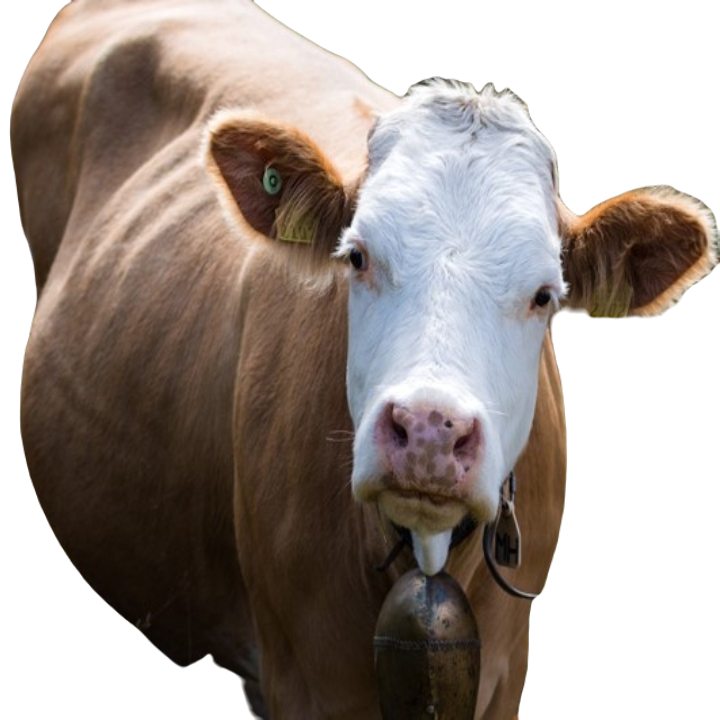Cow: (11, 0, 719, 719)
